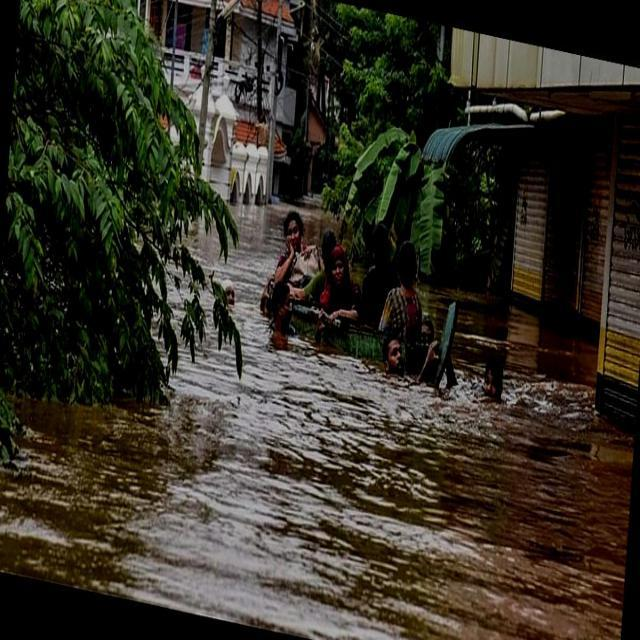flood: (123, 170, 640, 639)
